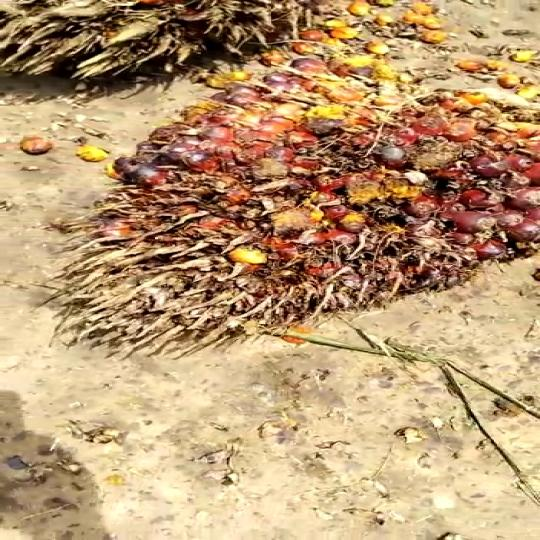masak: (68, 42, 540, 361)
